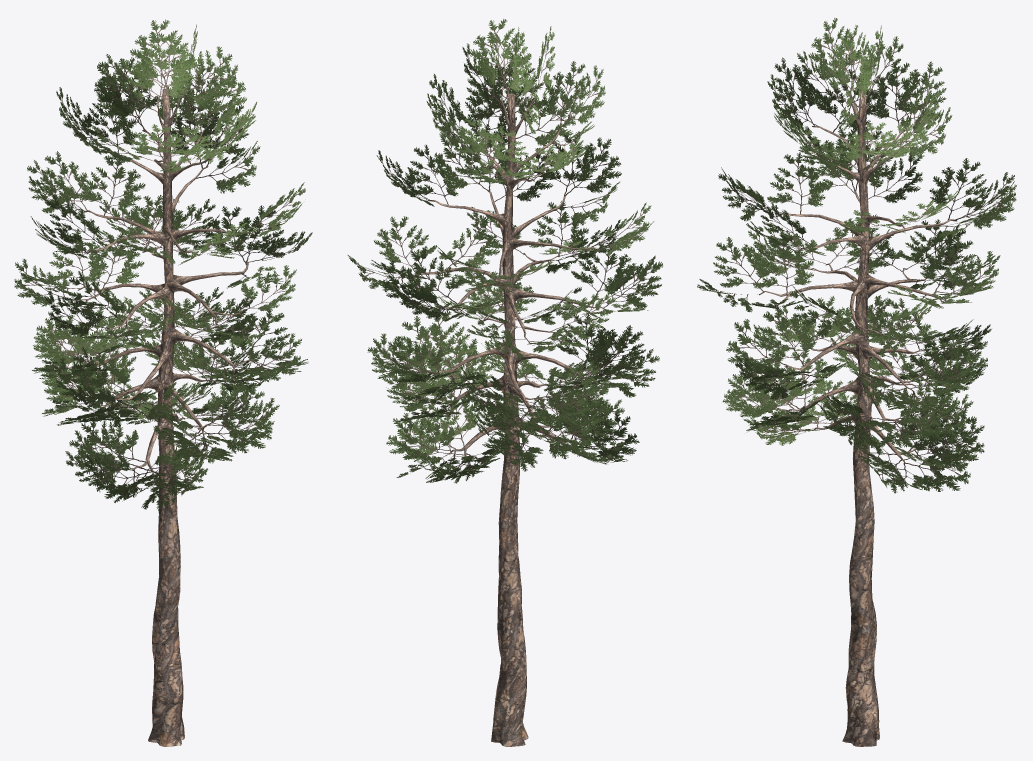
The model's file is pino.glb.
The picture shows the model from 3 angles, left to right: view 1: azimuth 30°, elevation 25°; view 2: azimuth 150°, elevation 25°; view 3: azimuth 270°, elevation 25°; orthographic projection.
Parts seen in each view (by area): view 1: Tree_1, Tree_0; view 2: Tree_1, Tree_0; view 3: Tree_1, Tree_0.
Part boxes in pixels (x1=…): Tree_1: x1=14, y1=19, x2=312, y2=510; Tree_0: x1=77, y1=88, x2=253, y2=746; Tree_1: x1=347, y1=19, x2=662, y2=483; Tree_0: x1=413, y1=88, x2=604, y2=746; Tree_1: x1=697, y1=18, x2=1016, y2=493; Tree_0: x1=759, y1=88, x2=956, y2=746.
Size of the model in its own units: 2.18 by 5.32 by 2.17.
Materials: 2 (2 with a texture image).
